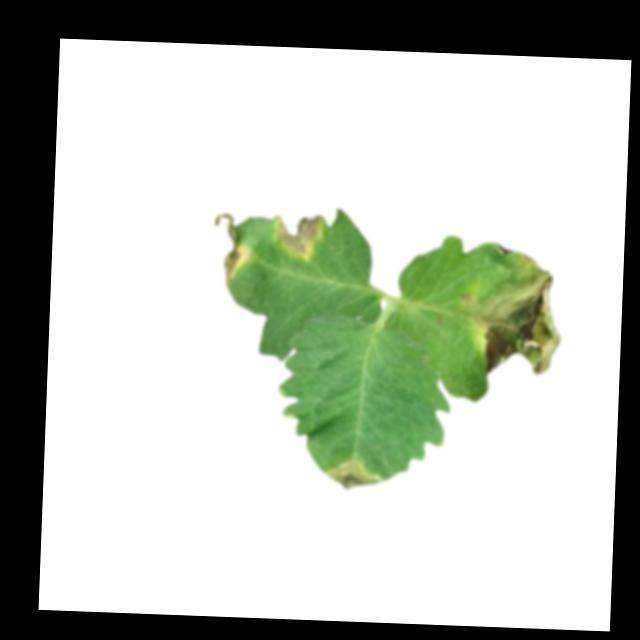Late_blight: (466, 241, 567, 380), (211, 212, 251, 283), (274, 212, 326, 264), (325, 459, 381, 493)
